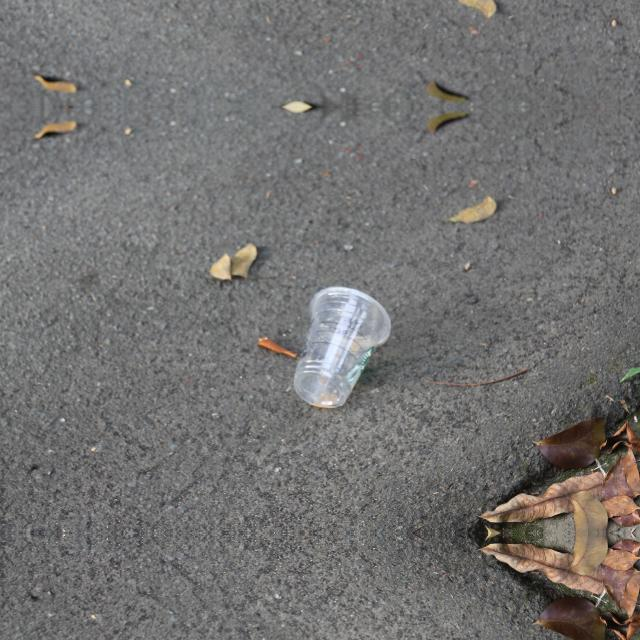Plastic: (294, 284, 392, 410)
